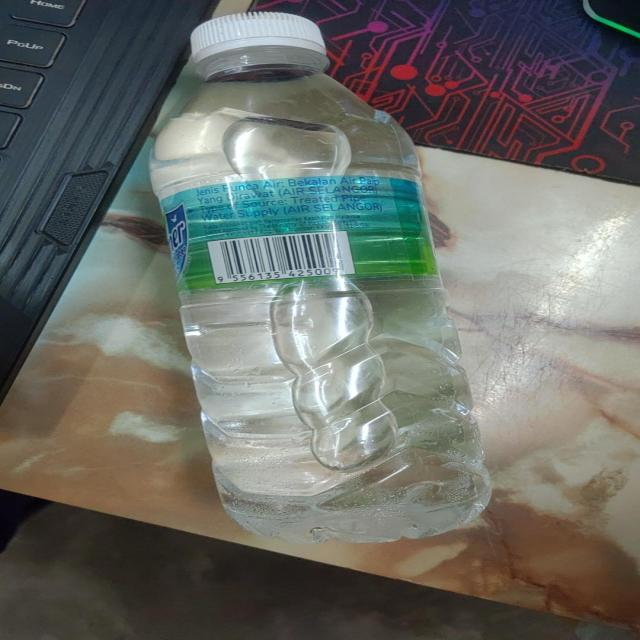plastic bottle: (143, 70, 499, 546)
plastic bottle cap: (190, 12, 331, 75)
